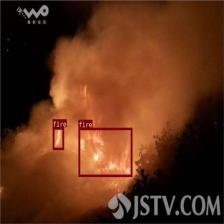fire: (78, 127, 132, 176), (52, 127, 64, 150)
